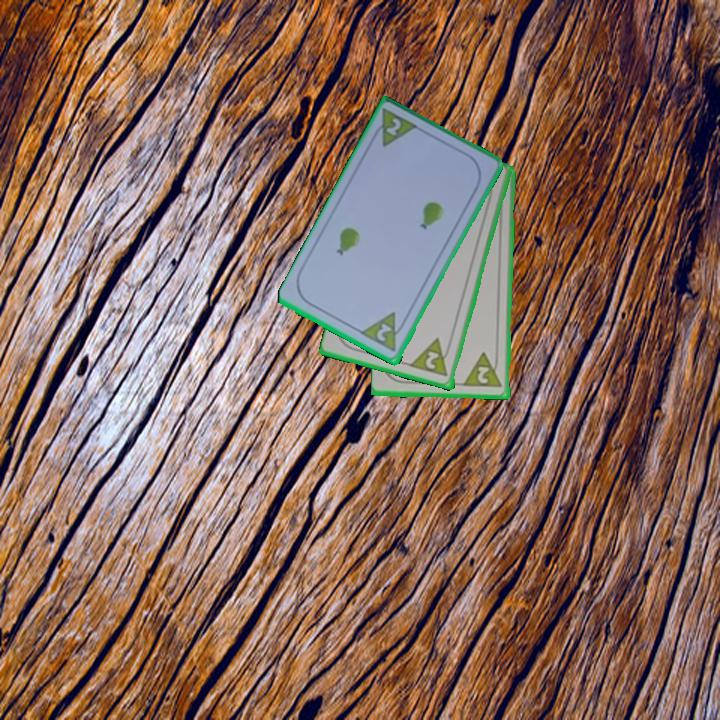2p: (359, 309, 410, 356), (408, 335, 455, 380), (383, 114, 404, 140), (474, 362, 492, 386)
